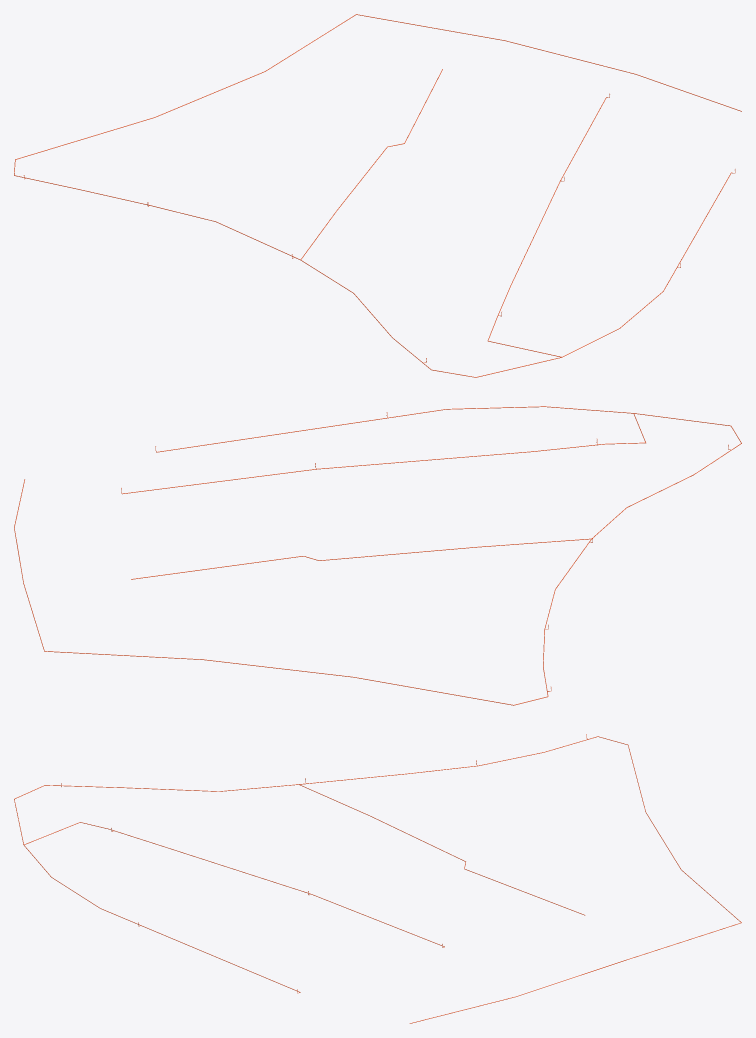
3 renders of one model, top to bottom at view 1: azimuth 30°, elevation 25°; view 2: azimuth 150°, elevation 25°; view 3: azimuth 270°, elevation 25°, orthographic. The views are drawn at different scales.
Visible parts, largest first — view 1: ID86; view 2: ID86; view 3: ID86.
Boxes of the visible parts, box(x1,y1,x2,y2) form: ID86: box(14, 14, 741, 377); ID86: box(14, 406, 741, 705); ID86: box(14, 736, 741, 1023).
Size of the model in its own units: 342 by 17.23 by 381.
